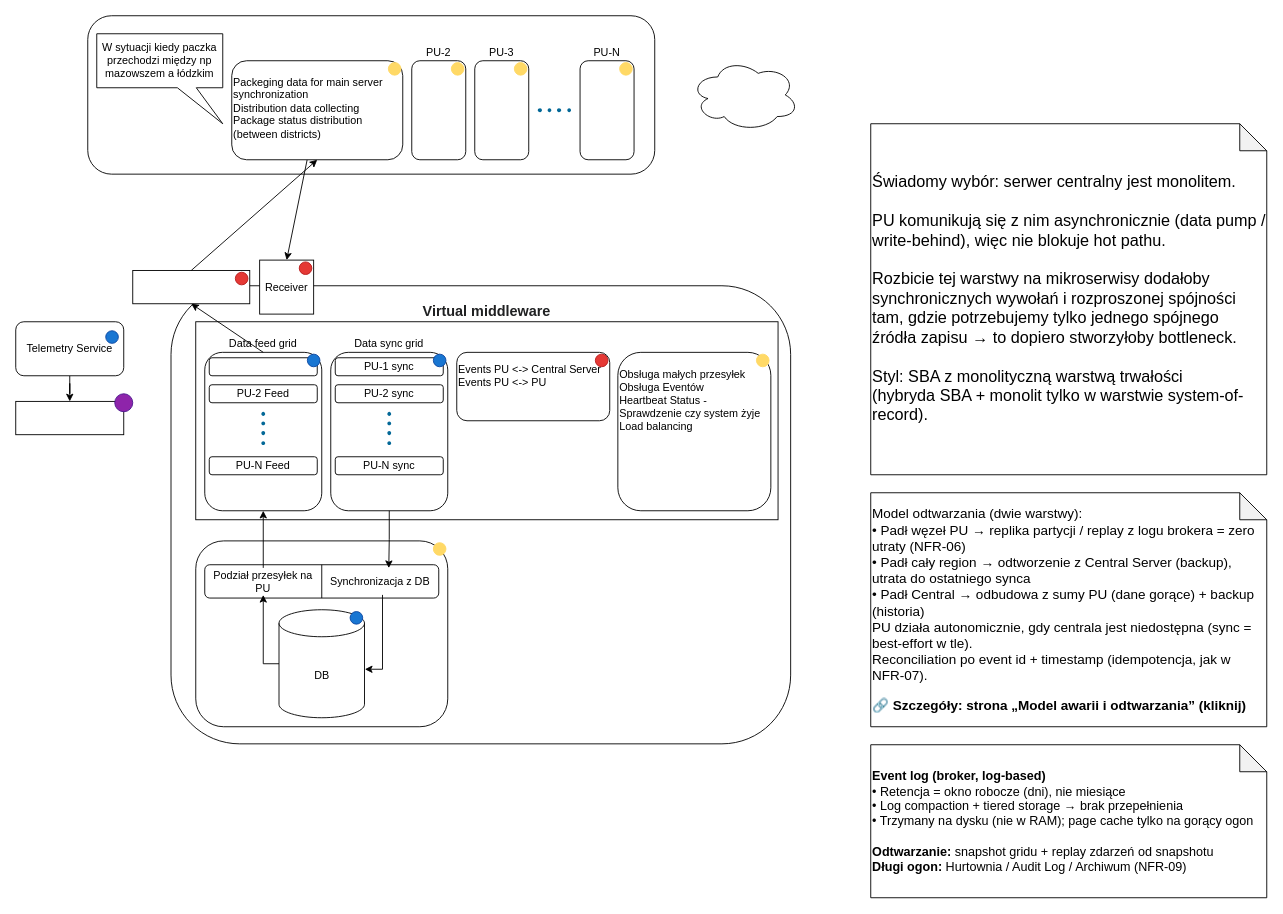
Some shapes in this 1283 by 914 pixel diagram are drawn without their labels. The box of each missing label's shape, as (x1, y1, x2, y2) in pixels:
Central Server: (195, 540, 448, 727)
Message grid: (456, 351, 610, 421)
Monolit — System of Record: (170, 285, 791, 744)
Outside Services: (690, 58, 799, 131)
Processing grid: (617, 351, 771, 511)
PU-1: (231, 60, 403, 160)
PU-1 Feed: (208, 357, 317, 376)
Sending Service: (132, 270, 250, 304)
Telemetry Window: (15, 400, 124, 435)
